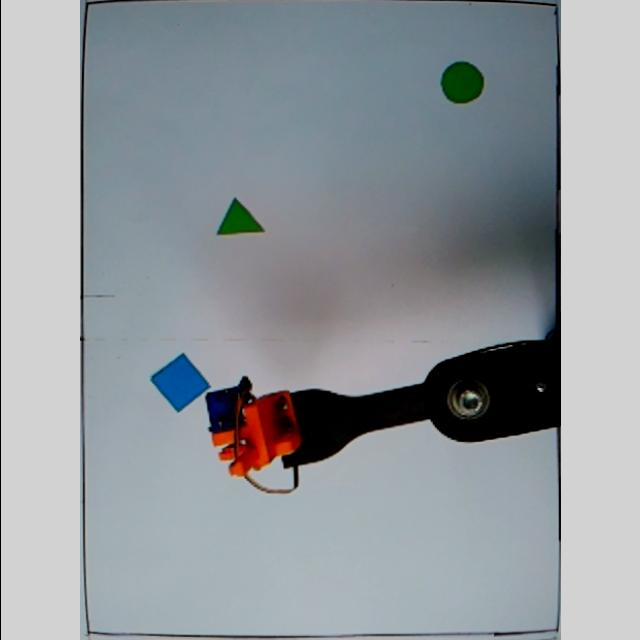blueSquare: (150, 352, 212, 413)
greenCircle: (440, 62, 488, 105)
greenTriangle: (215, 198, 267, 238)
